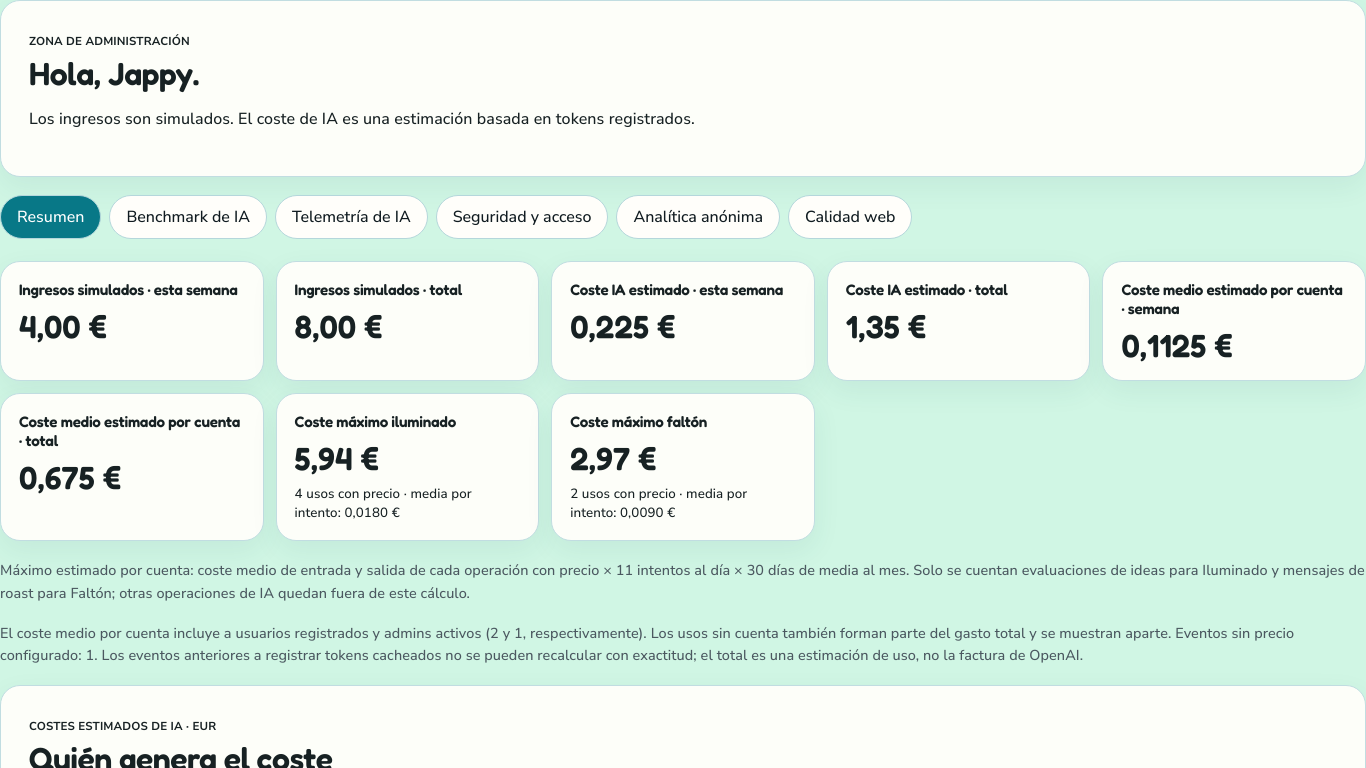
Test: AdminDashboard › shows the benchmark report contract, aggregated AI activity and login metrics
This screenshot has width=1366, height=768.
Check: the heading "Hola, Jappy." is shown, box [29,54,199,93]
Click the tab "Benchmark de IA" at (188, 217), box [109,195,267,239]
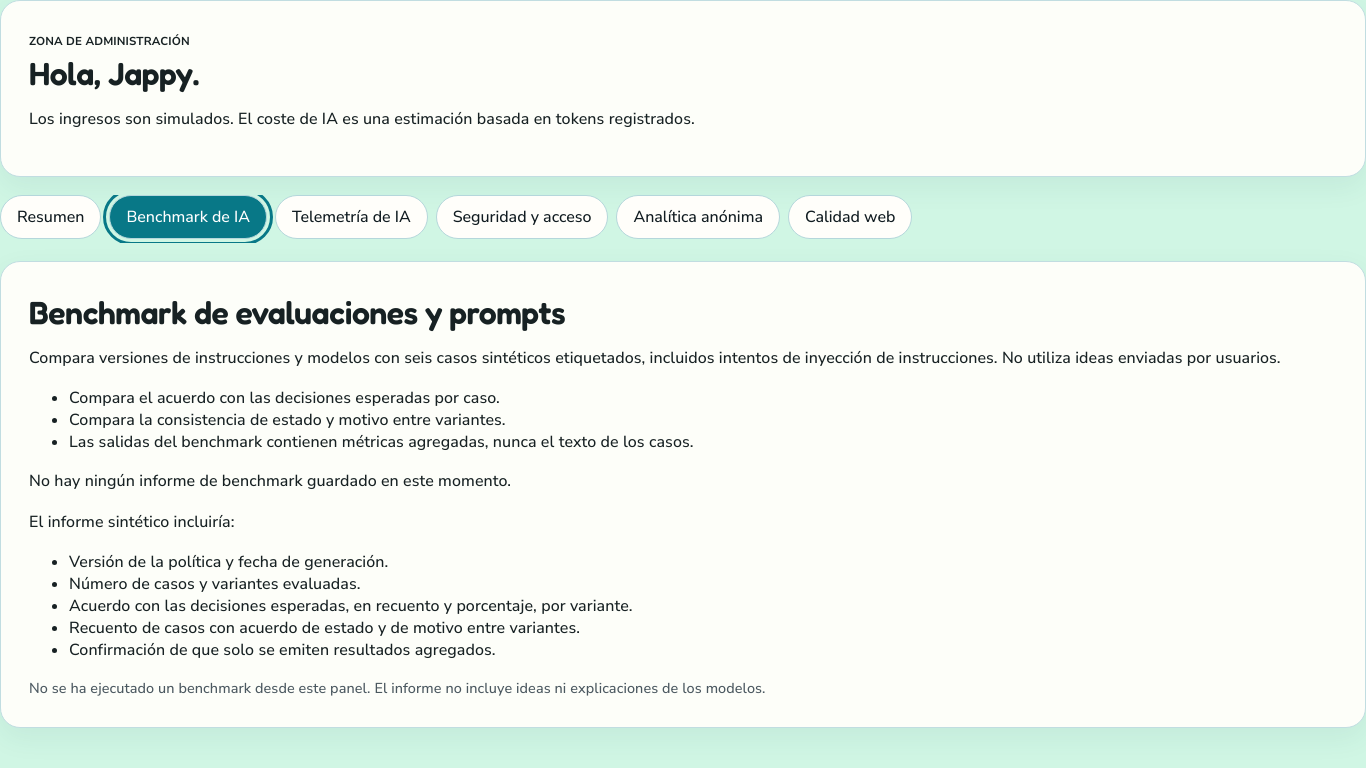
Check: the heading "Benchmark de evaluaciones y prompts" is shown, box [29,293,565,332]
Check: the text "seis casos sintéticos" is shown, box [29,347,1281,369]
Check: the text "No hay ningún informe de benchmark guardado en este momento." is shown, box [29,470,511,492]
Click the tab "Telemetría de IA" at (351, 217), box [275,195,428,239]
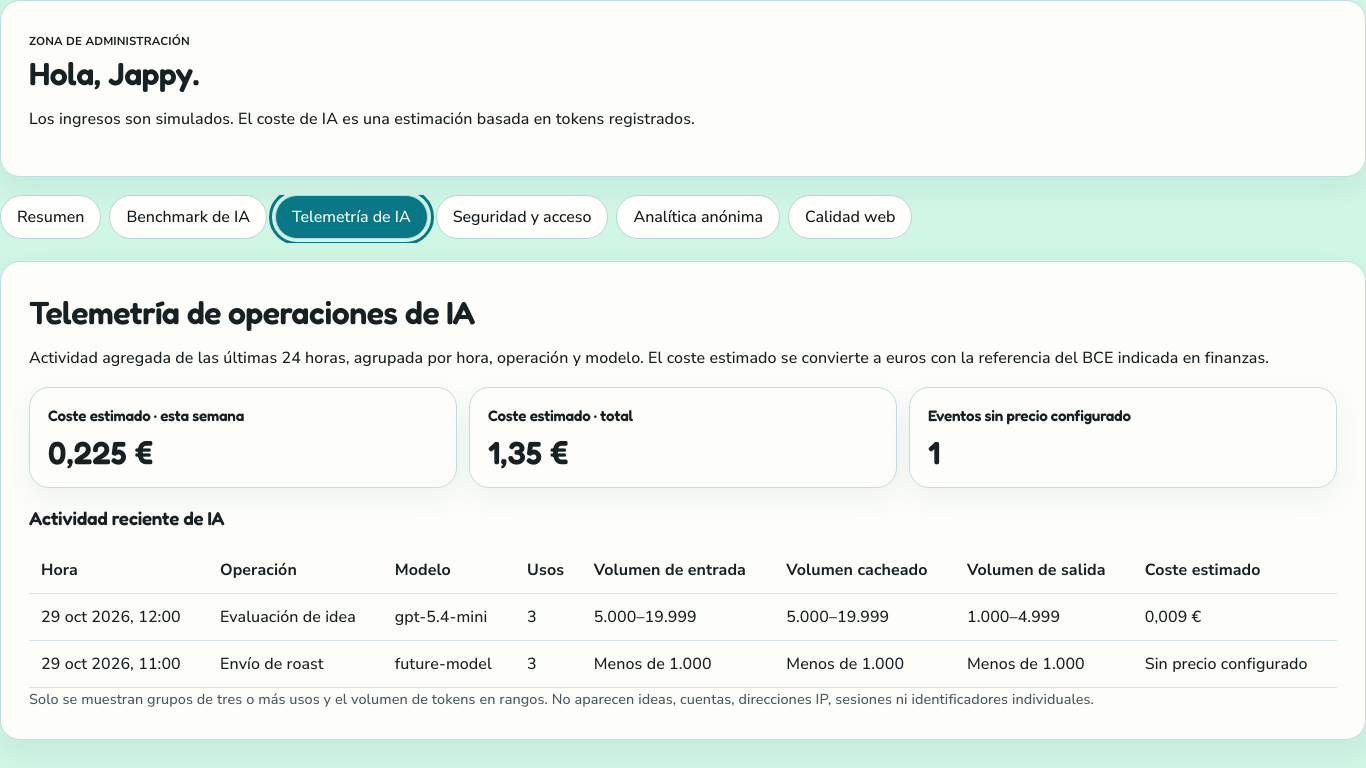
Check: the heading "Telemetría de operaciones de IA" is shown, box [29,293,475,332]
Check: the table named "Actividad reciente agregada de IA" shows "Evaluación de idea", box [220,606,356,628]
Check: the table named "Actividad reciente agregada de IA" shows "gpt-5.4-mini", box [395,606,487,628]
Click the tab "Seguridad y acceso" at (522, 217), box [436,195,608,239]
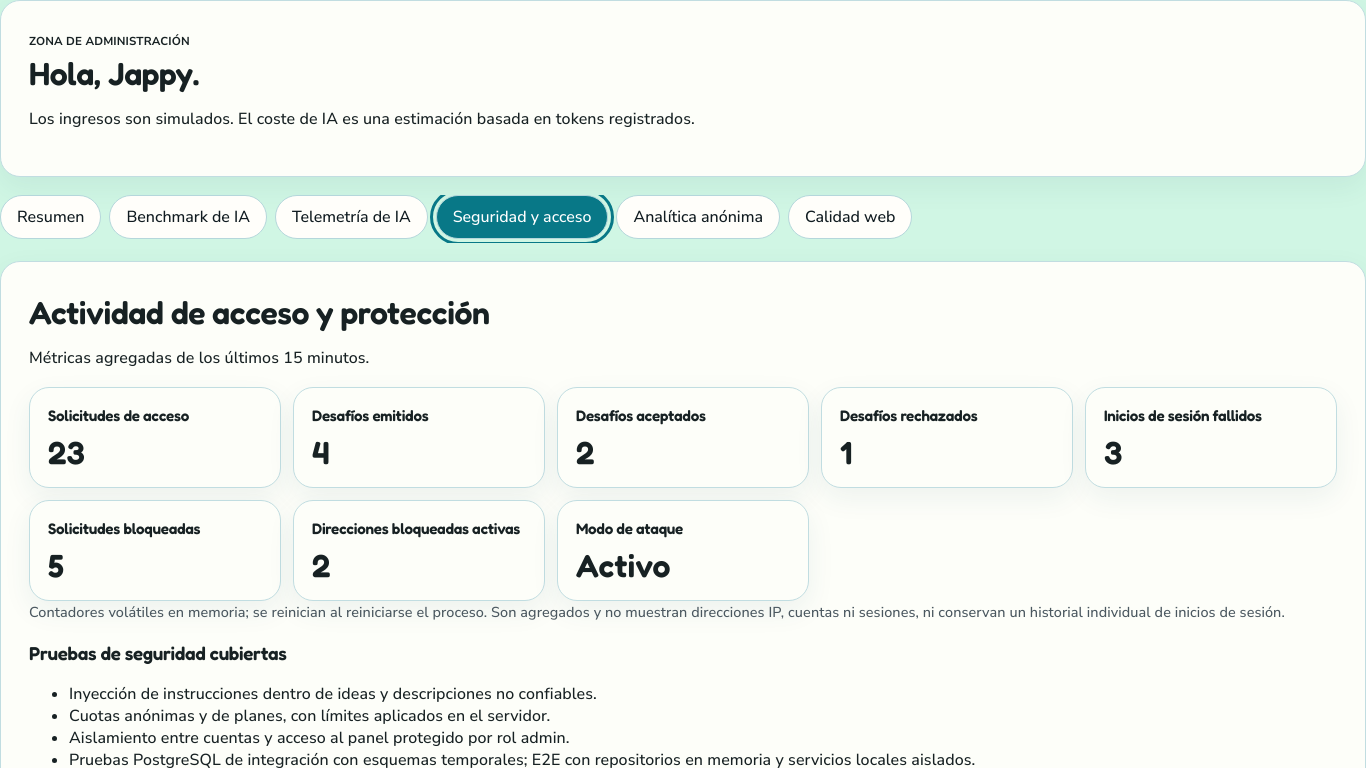
Check: the heading "Actividad de acceso y protección" is shown, box [29,293,490,332]
Check: the heading "Solicitudes de acceso" is shown, box [48,406,189,425]
Check: the text "Métricas agregadas de los últimos 15 minutos." is shown, box [29,347,369,369]
